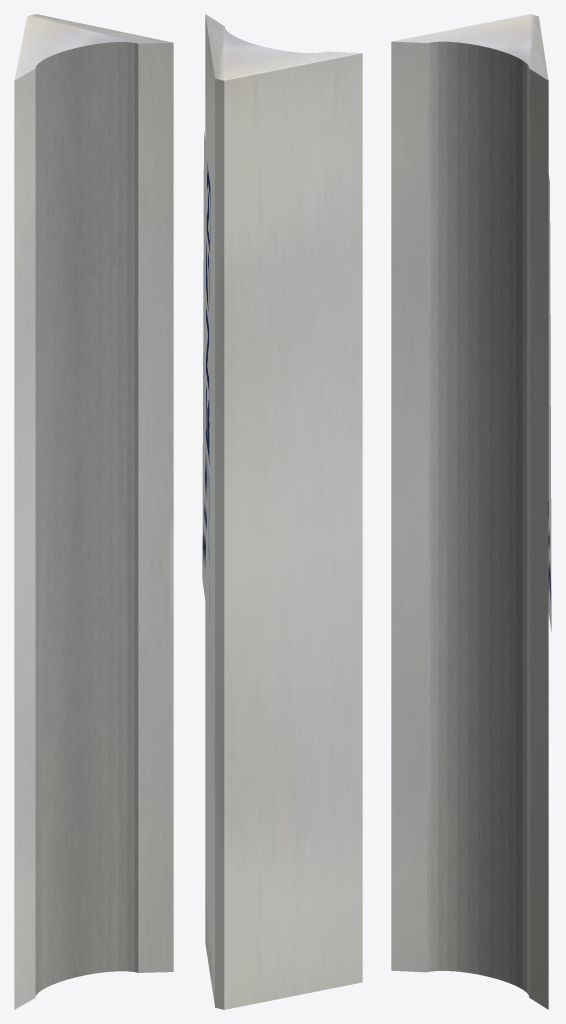
Rendered from flap.obj.
3 views of the same model, side by side, from view 1: azimuth 30°, elevation 25°; view 2: azimuth 150°, elevation 25°; view 3: azimuth 330°, elevation 25° (orthographic).
Parts seen in each view (by area): view 1: Fap; view 2: Fap, ensm_fill; view 3: Fap, ensm_fill.
Part boxes in pixels (box(x1,y1,x2,y2)): Fap: box(14, 14, 173, 1009); Fap: box(205, 14, 362, 1009); ensm_fill: box(202, 131, 211, 632); Fap: box(391, 14, 548, 1009); ensm_fill: box(548, 174, 551, 632).
Bounding box in the file's own units: 5.01 × 28.12 × 3.5.
2 materials, 2 textured.
